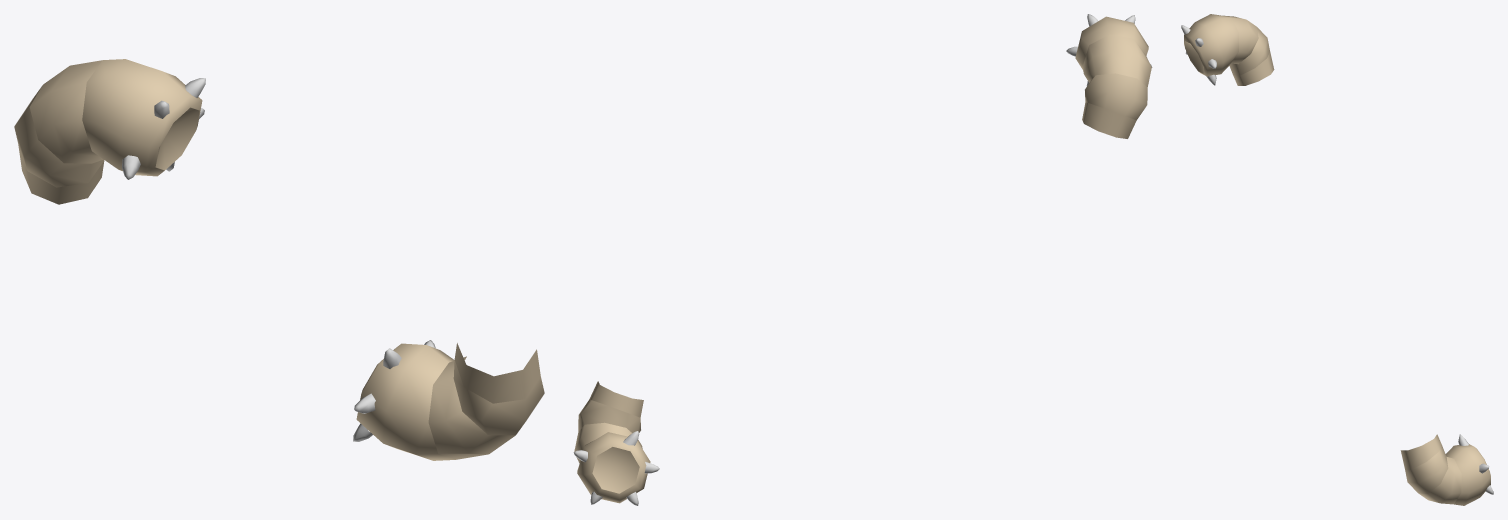
The model's file is S12_Bug06_L2_Ear.glb.
3 views of the same model, side by side, from view 1: azimuth 30°, elevation 25°; view 2: azimuth 150°, elevation 25°; view 3: azimuth 270°, elevation 25° (orthographic). The views are drawn at different scales.
Parts seen in each view (by area): view 1: S12_Bug06_L2_Ear__Ear_L__surface0__lod0, S12_Bug06_L2_Ear__Ear_R__surface1__lod0; view 2: S12_Bug06_L2_Ear__Ear_L__surface0__lod0, S12_Bug06_L2_Ear__Ear_R__surface1__lod0; view 3: S12_Bug06_L2_Ear__Ear_L__surface0__lod0, S12_Bug06_L2_Ear__Ear_R__surface1__lod0.
Part boxes in pixels (x1,y1,x2,y2): S12_Bug06_L2_Ear__Ear_L__surface0__lod0: [14, 59, 205, 204]; S12_Bug06_L2_Ear__Ear_R__surface1__lod0: [353, 340, 544, 460]; S12_Bug06_L2_Ear__Ear_L__surface0__lod0: [1066, 14, 1152, 138]; S12_Bug06_L2_Ear__Ear_R__surface1__lod0: [573, 381, 659, 505]; S12_Bug06_L2_Ear__Ear_L__surface0__lod0: [1181, 14, 1274, 85]; S12_Bug06_L2_Ear__Ear_R__surface1__lod0: [1400, 434, 1493, 505].
Bounding box in the file's own units: 151 × 144 × 116.
